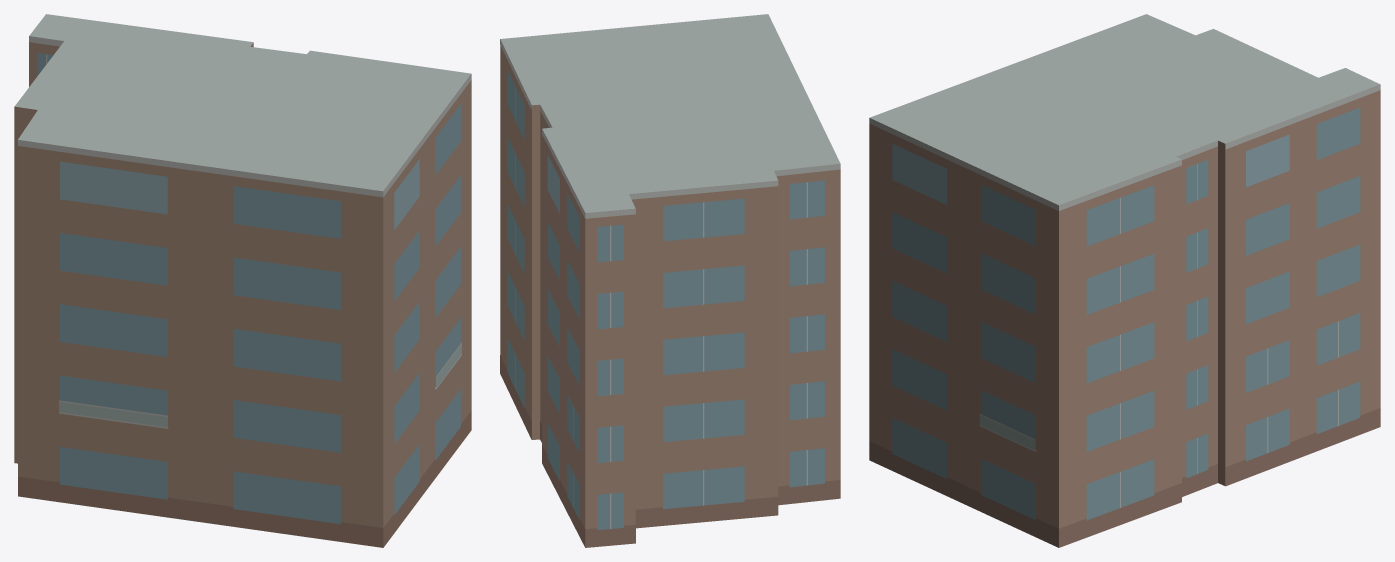
The model's file is survey-upis-32498149.glb.
The picture shows the model from 3 angles, left to right: view 1: azimuth 30°, elevation 25°; view 2: azimuth 150°, elevation 25°; view 3: azimuth 270°, elevation 25°; orthographic projection. The views are drawn at different scales.
Visible parts, largest first — view 1: survey-upis-32498149.tmp; view 2: survey-upis-32498149.tmp; view 3: survey-upis-32498149.tmp.
Part boxes in pixels (x1,y1,x2,y2): survey-upis-32498149.tmp: [14, 14, 471, 547]; survey-upis-32498149.tmp: [500, 14, 840, 547]; survey-upis-32498149.tmp: [869, 14, 1380, 547].
Bounding box in the file's own units: 17.26 × 14.4 × 19.48.
